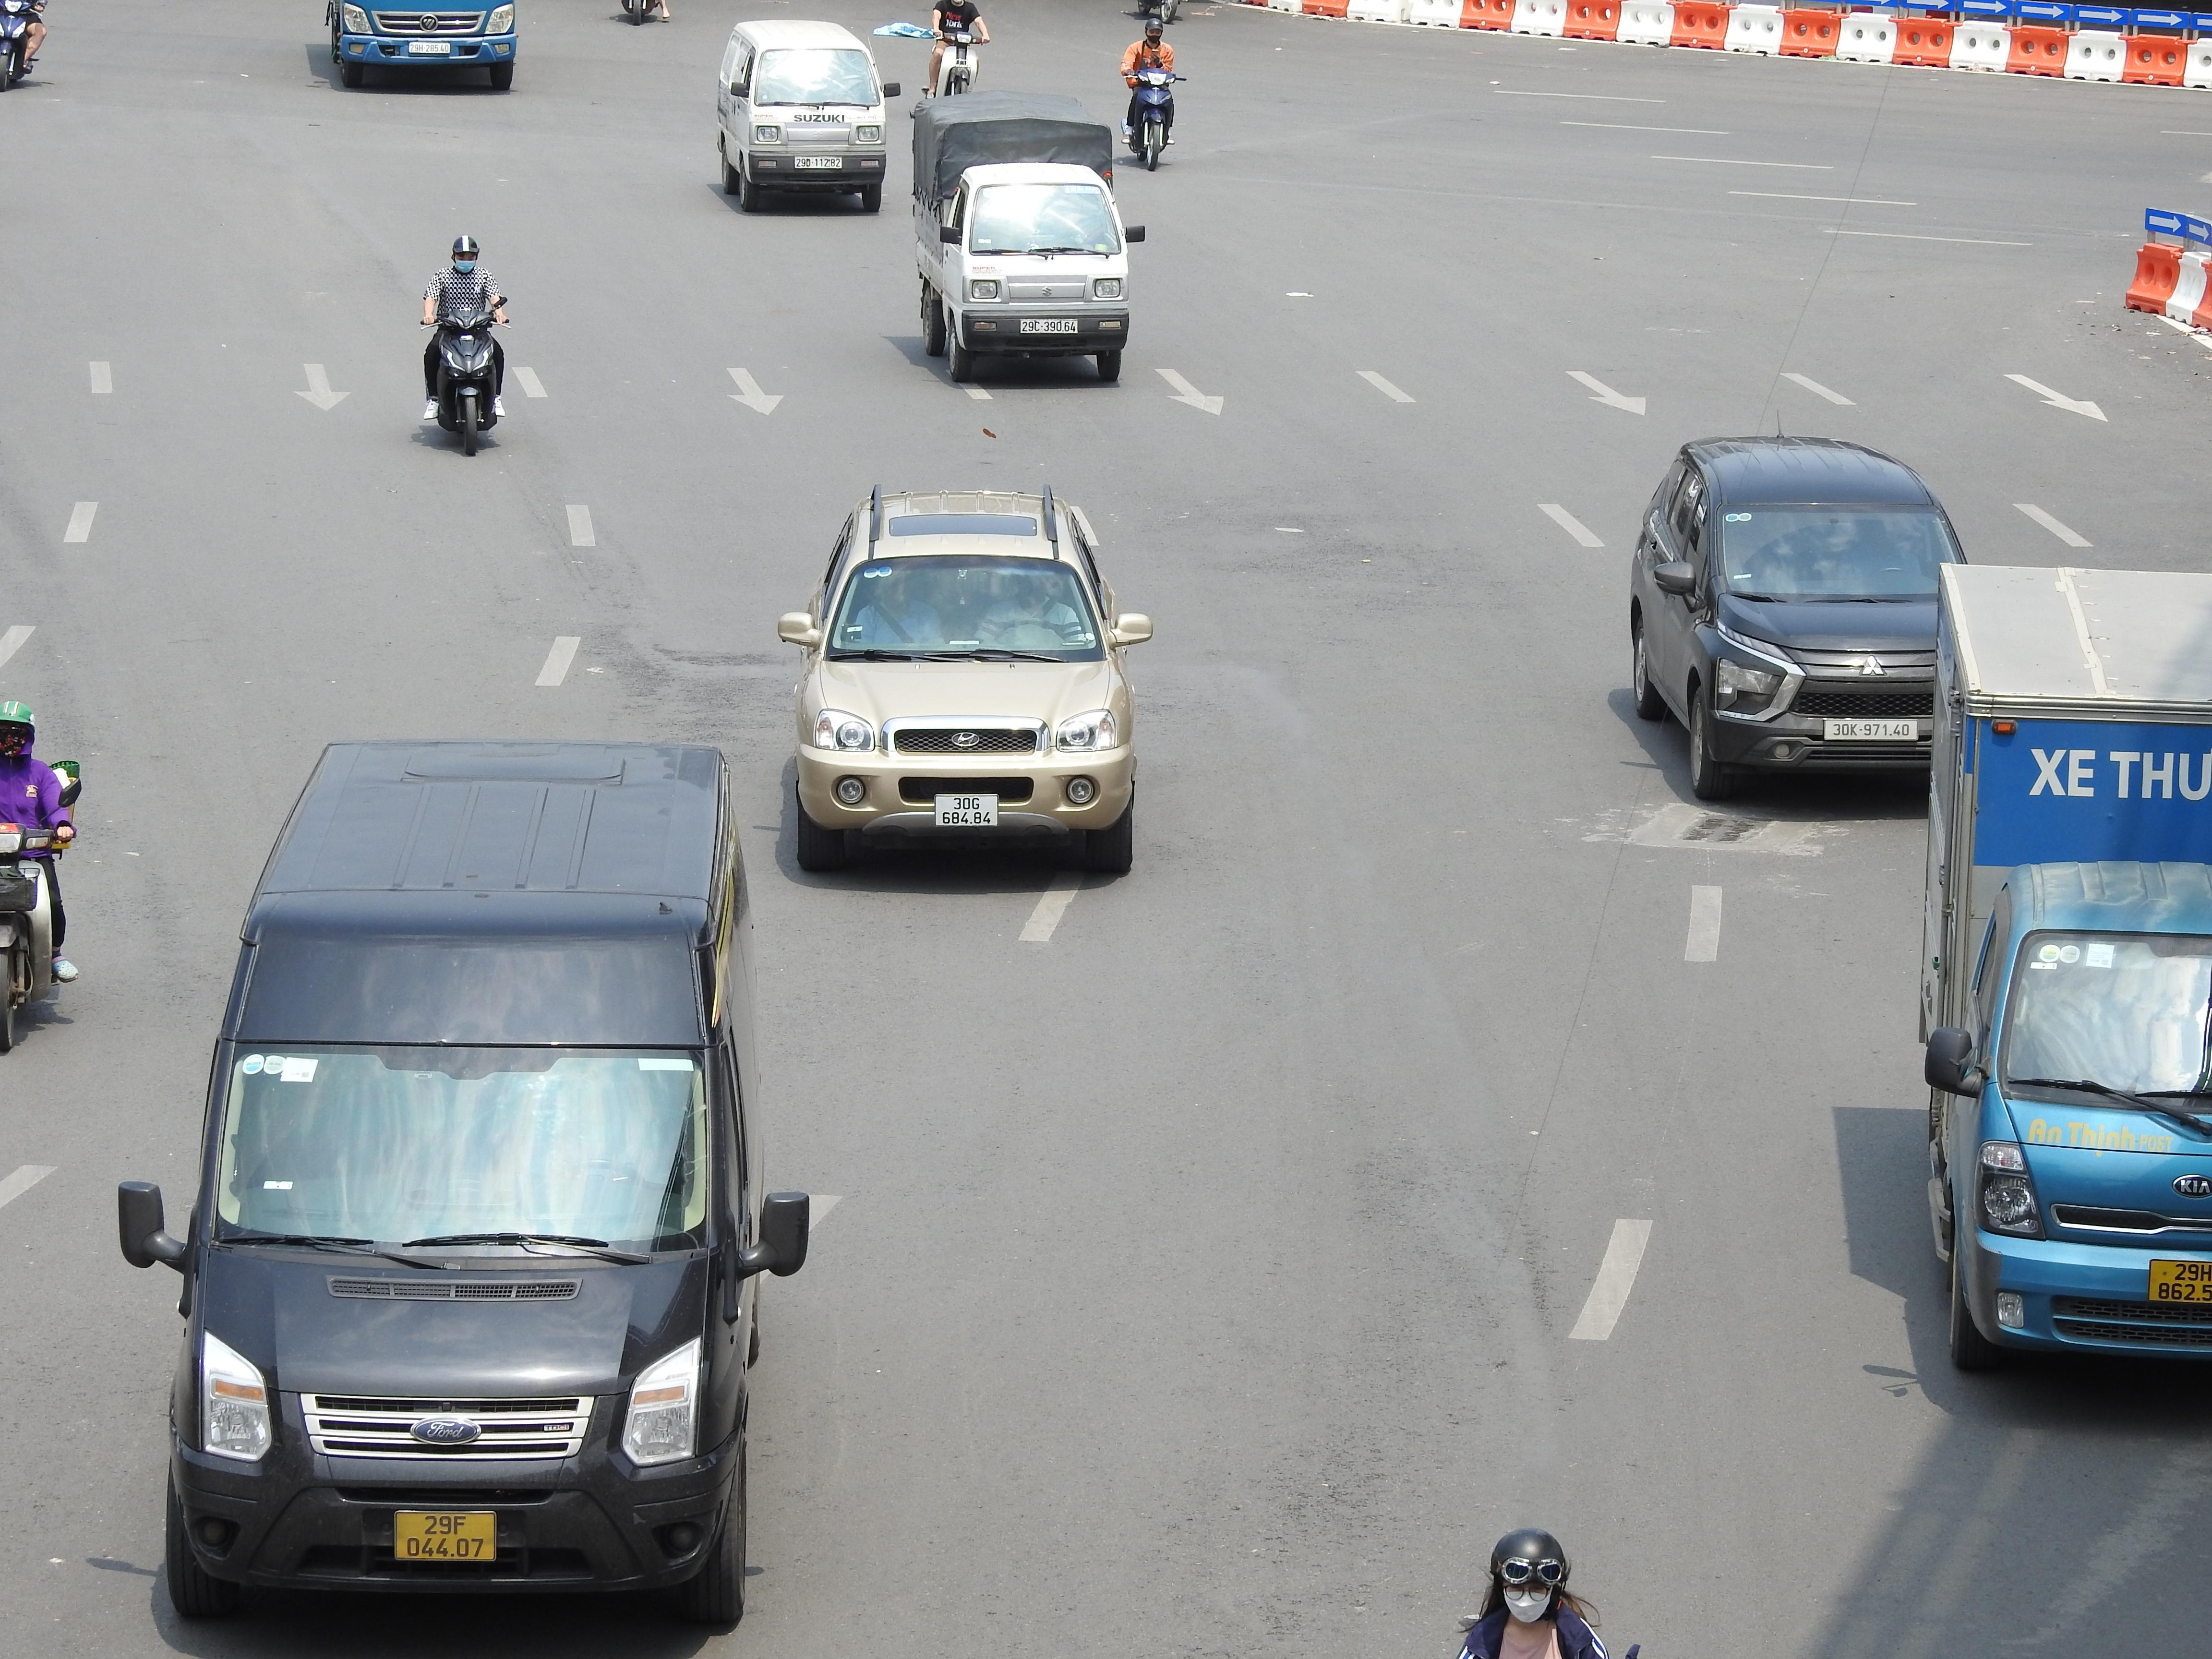BSD: (1824, 718, 1916, 739), (1021, 319, 1078, 335), (794, 155, 843, 169), (408, 42, 451, 54)
BSV: (394, 1509, 496, 1561), (2149, 1262, 2212, 1303), (935, 795, 998, 826)
bus: (103, 734, 819, 1656)
car: (775, 483, 1155, 877), (1625, 434, 1970, 802), (714, 19, 899, 216)
motorbike: (0, 701, 82, 1060), (1447, 1527, 1642, 1659), (420, 235, 510, 457), (1120, 21, 1177, 171), (923, 0, 988, 98)
truck: (1911, 558, 2212, 1387), (906, 89, 1143, 387)
